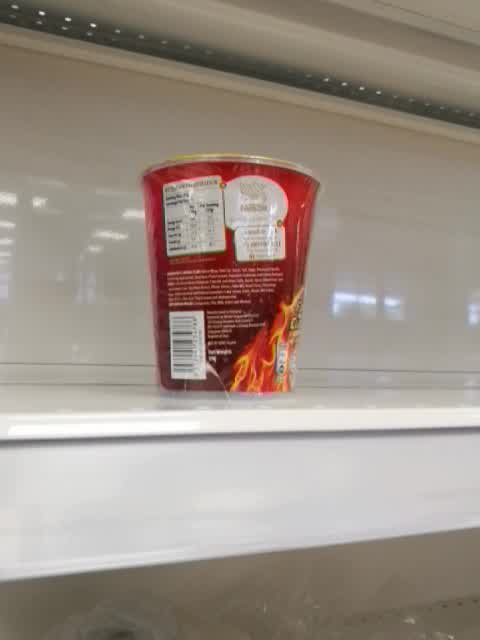maggi: (137, 151, 322, 399)
